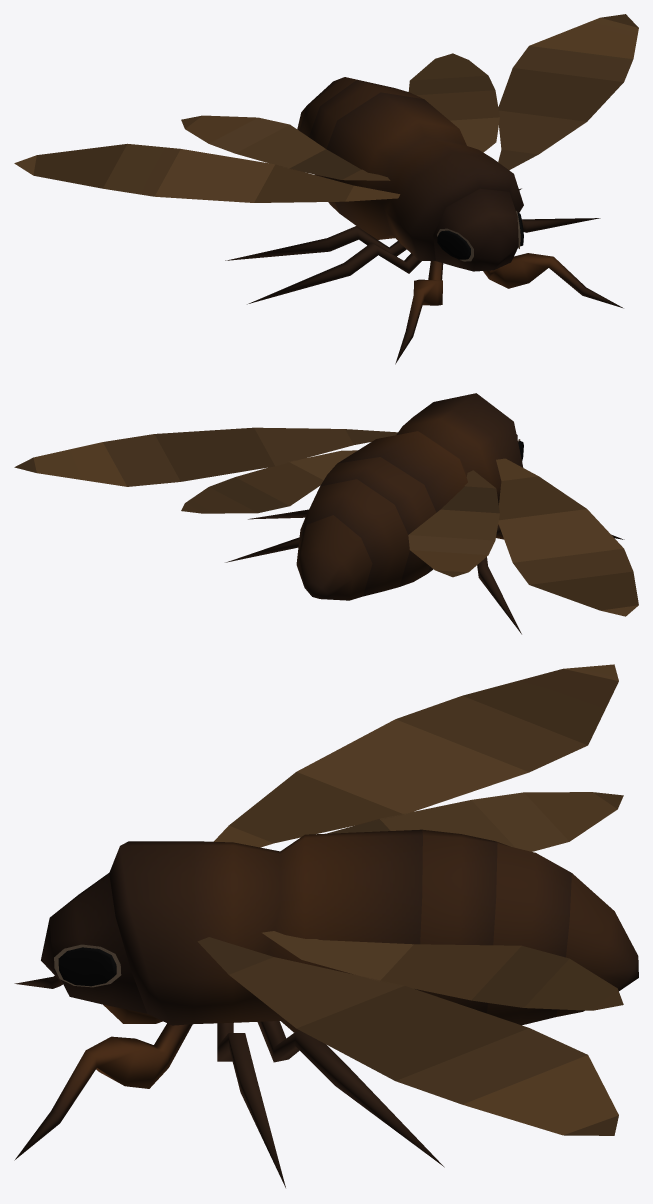
The model's file is animals-flyinginsects-cicada_v1.fbx.
The picture shows the model from 3 angles, top to bottom: view 1: azimuth 30°, elevation 25°; view 2: azimuth 150°, elevation 25°; view 3: azimuth 270°, elevation 25°; orthographic projection. The views are drawn at different scales.
Parts seen in each view (by area): view 1: Cicada.001; view 2: Cicada.001; view 3: Cicada.001.
Boxes of the visible parts, box(x1,y1,x2,y2) form: Cicada.001: box(14, 14, 638, 364); Cicada.001: box(14, 393, 638, 634); Cicada.001: box(14, 664, 638, 1187).
Bounding box in the file's own units: 0.42 × 0.0982 × 0.2353.
